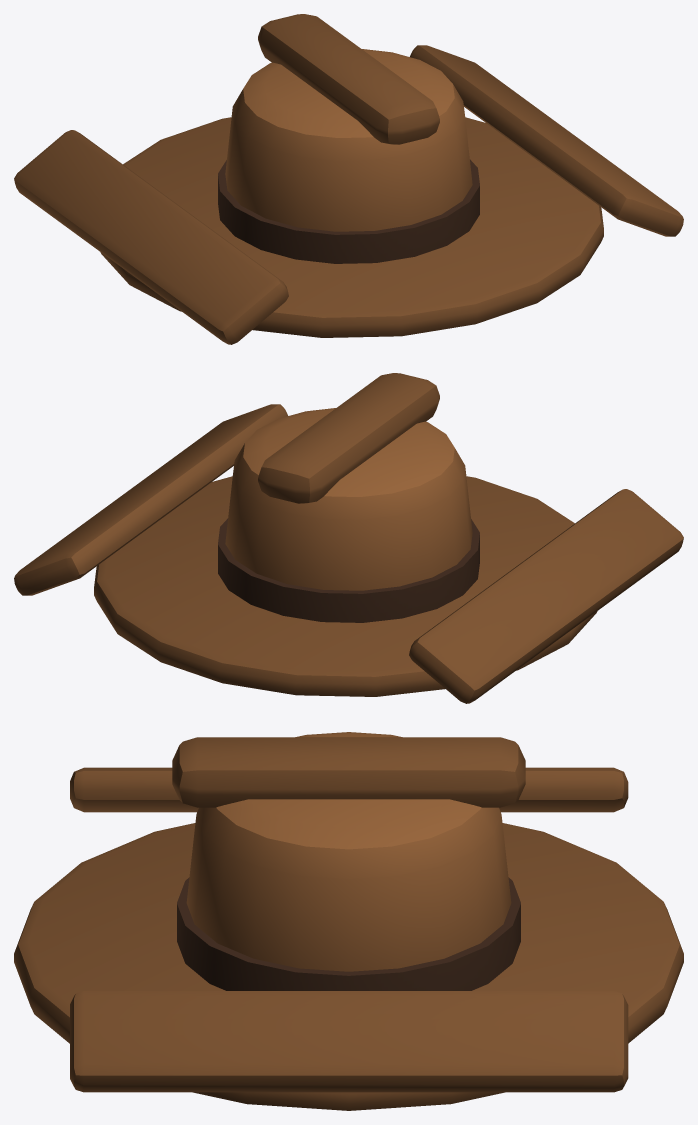
Rendered from lo_hat_cowboy.glb.
3 views of the same model, one above another, from view 1: azimuth 30°, elevation 25°; view 2: azimuth 150°, elevation 25°; view 3: azimuth 270°, elevation 25° (orthographic). The views are drawn at different scales.
Visible parts, largest first — view 1: body; view 2: body; view 3: body.
Part boxes in pixels (x1,y1,x2,y2): body: (14, 14, 683, 344); body: (14, 373, 683, 703); body: (14, 732, 683, 1110).
Size of the model in its own units: 0.7519 by 0.27 by 0.72.
